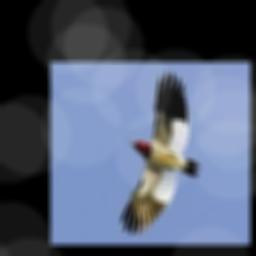Woodpecker: (121, 70, 201, 234)
